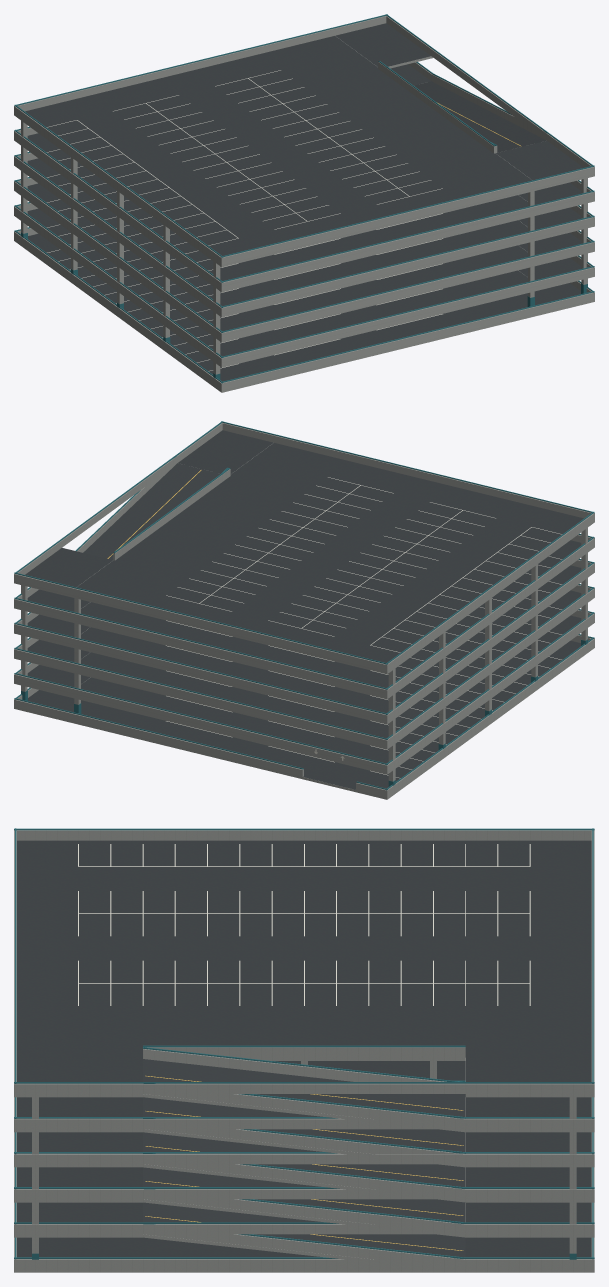
File: large_06.glb
The picture shows the model from 3 angles, top to bottom: view 1: azimuth 30°, elevation 25°; view 2: azimuth 150°, elevation 25°; view 3: azimuth 270°, elevation 25°; orthographic projection. The views are drawn at different scales.
Parts seen in each view (by area): view 1: large_06_Asphalt, large_06_Concrete, large_06_Teal, large_06_Paint; view 2: large_06_Asphalt, large_06_Concrete, large_06_Teal, large_06_Paint; view 3: large_06_Asphalt, large_06_Concrete, large_06_Teal, large_06_Paint, large_06_Yellow.
Boxes of the visible parts, <box> form: large_06_Asphalt: <box>25,23,583,381</box>; large_06_Concrete: <box>14,15,594,392</box>; large_06_Teal: <box>14,14,594,383</box>; large_06_Paint: <box>47,70,442,371</box>; large_06_Asphalt: <box>25,430,583,789</box>; large_06_Concrete: <box>14,422,594,799</box>; large_06_Teal: <box>14,421,594,790</box>; large_06_Paint: <box>166,477,561,778</box>; large_06_Asphalt: <box>17,840,591,1257</box>; large_06_Concrete: <box>14,830,594,1272</box>; large_06_Teal: <box>14,828,594,1259</box>; large_06_Paint: <box>78,844,530,1005</box>; large_06_Yellow: <box>145,1075,463,1250</box>.
Bounding box in the file's own units: 56 × 19.48 × 54.02.
6 materials, 2 textured.
